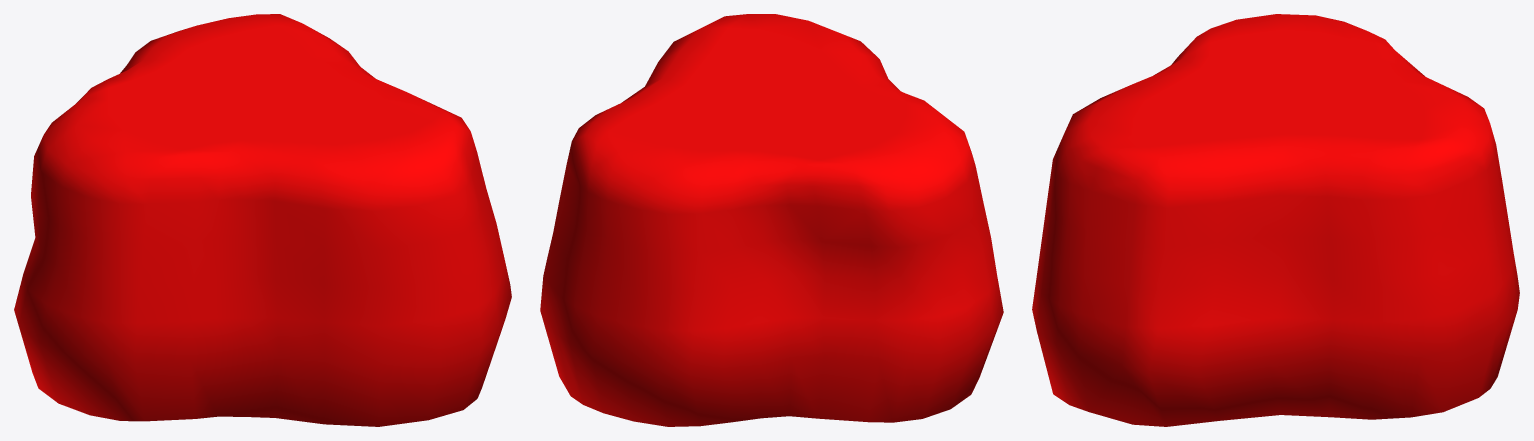
The model's file is geology-landforms-dirtsod_v1.fbx.
3 views of the same model, side by side, from view 1: azimuth 30°, elevation 25°; view 2: azimuth 150°, elevation 25°; view 3: azimuth 270°, elevation 25° (orthographic). The views are drawn at different scales.
Visible parts, largest first — view 1: DirtSod_v1; view 2: DirtSod_v1; view 3: DirtSod_v1.
Boxes of the visible parts, left/top/right/bottom form: DirtSod_v1: left=14, top=14, right=511, bottom=426; DirtSod_v1: left=540, top=14, right=1003, bottom=426; DirtSod_v1: left=1032, top=14, right=1519, bottom=426.
Size of the model in its own units: 22.19 by 12.94 by 22.58.
